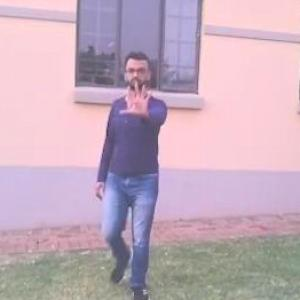follow_hand: (118, 74, 157, 118)
